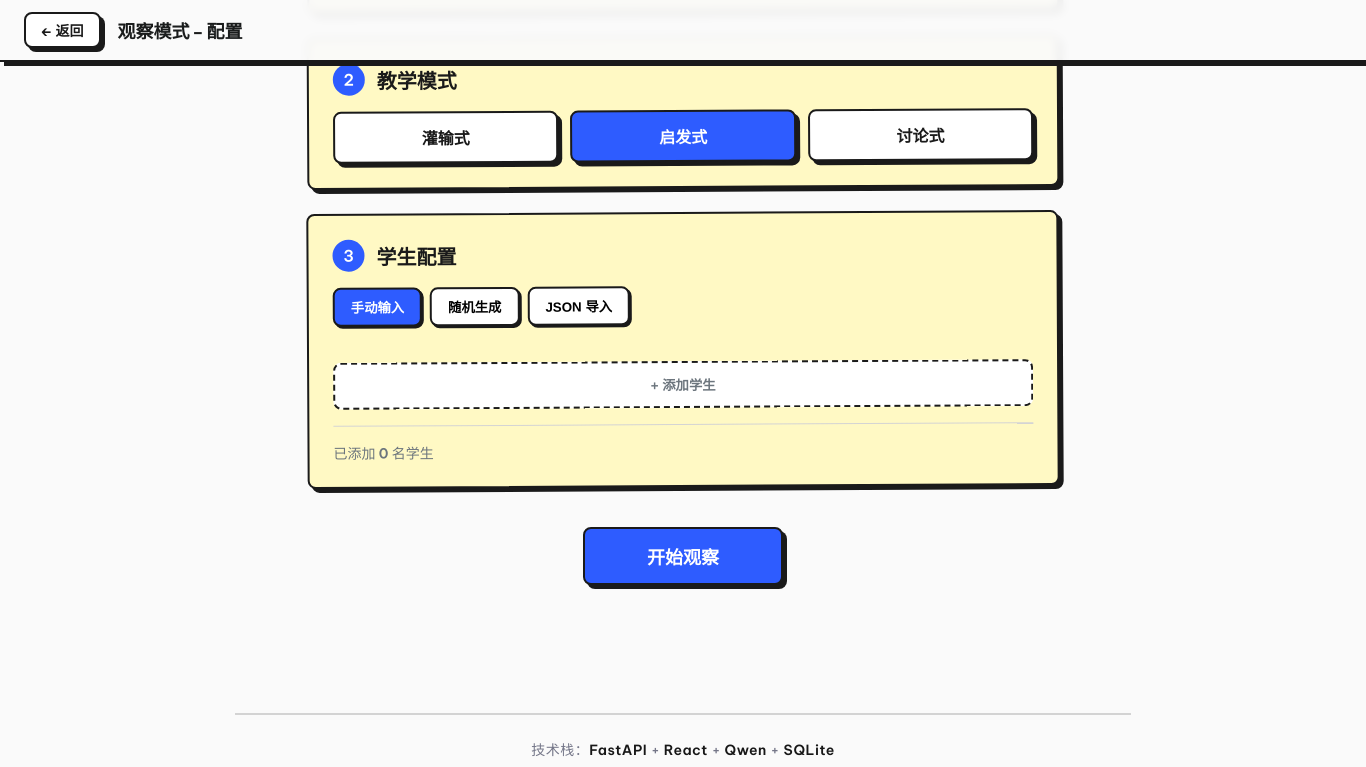
ObservationConfig › Manual student creation › shows error when adding student without name
This screenshot has width=1366, height=767.
(page scrolled)
Click the button "+ 添加学生": (683, 385) [333,359,1033,410]
(page scrolled)
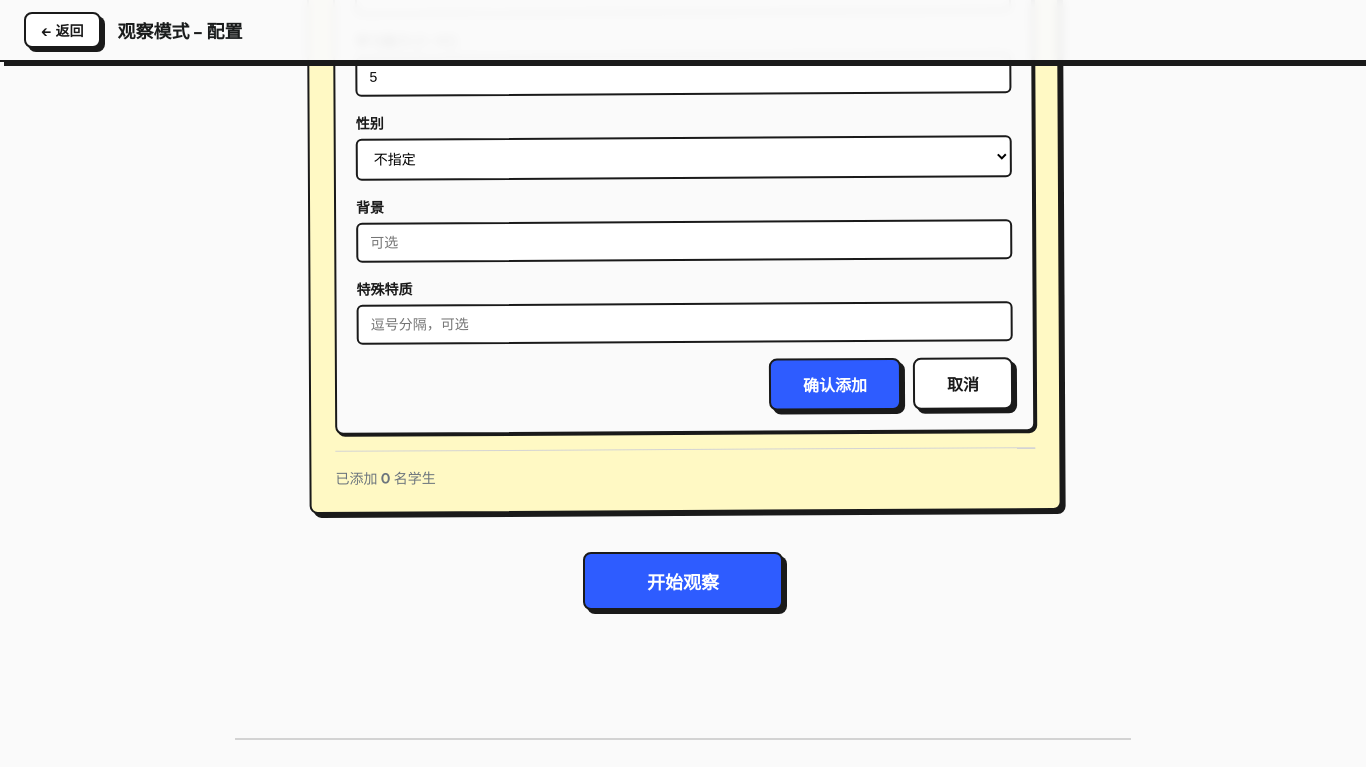
Click the button "确认添加": (835, 384) [769,358,901,411]
(page scrolled)
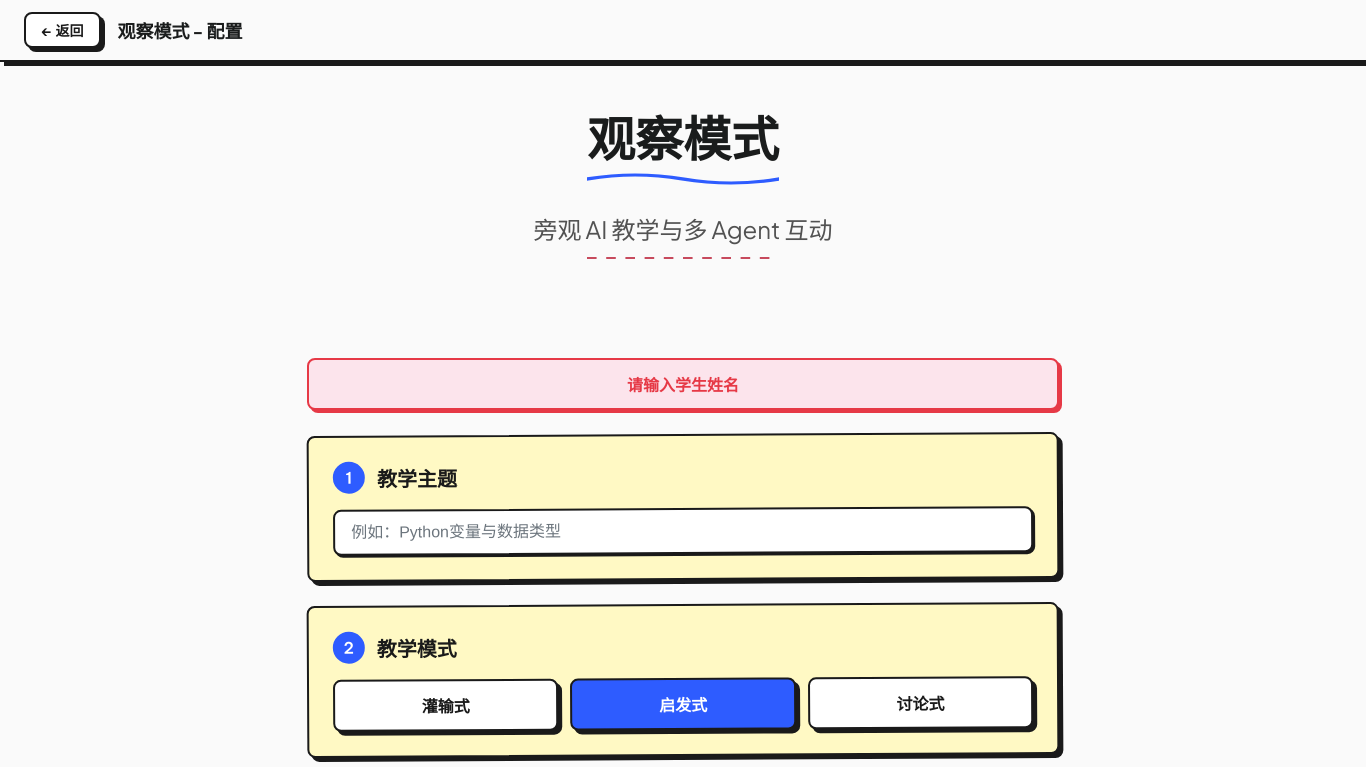
Result: the text "请输入学生姓名" is shown at [307,358,1059,410]
